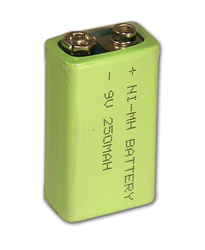9V: (42, 20, 163, 226)
